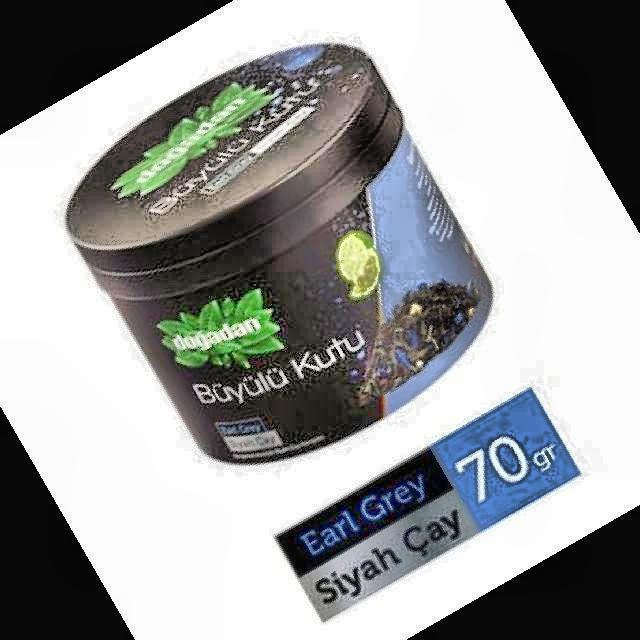plastic: (66, 45, 491, 462)
